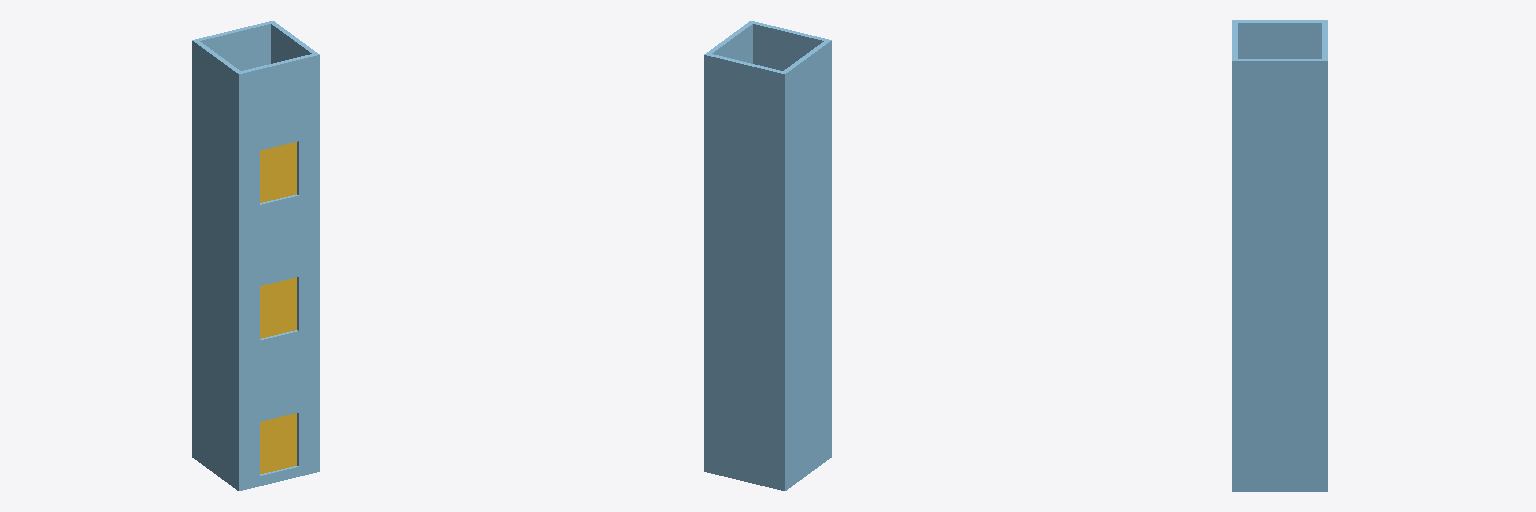
robot.urdf — elevator:
<?xml version="1.0"?>
<robot name="elevator">



    <gazebo>
        <gravity>0</gravity>
        <plugin name="gazebo_ros_control" filename="libgazebo_ros_control.so">
		<robotSimType>gazebo_ros_control/DefaultRobotHWSim</robotSimType>
        </plugin>
    </gazebo>

    <gazebo reference="world">
    <gravity>0</gravity>
        <static>true</static>
    </gazebo>
    
    <gazebo reference="shaft">
        <collision>
            <max_contact>0</max_contact>
        </collision>
    	<static>true</static>
    </gazebo>    

    <gazebo reference="car">
        <gravity>0</gravity>
    </gazebo>    

    <gazebo reference="car_door_left">
        <gravity>0</gravity>
    </gazebo>    

    <gazebo reference="car_door_right">
        <gravity>0</gravity>
    </gazebo>    

	<gazebo>
		<plugin name="joint_state_publisher" filename="libgazebo_ros_joint_state_publisher.so">
			<jointName>floor</jointName>
            <jointName>car_door_left_joint</jointName>
            <jointName>car_door_right_joint</jointName>
            <jointName>lobby_door_left_joint</jointName>
            <jointName>lobby_door_right_joint</jointName>
            <jointName>first_door_left_joint</jointName>
            <jointName>first_door_right_joint</jointName>
            <jointName>second_door_left_joint</jointName>
            <jointName>second_door_right_joint</jointName>
		</plugin>
	</gazebo>

    <link name="world"/>

    <link name="shaft">
 	    <inertial>
            <origin rpy="0 0 0" xyz="0 0 0"/>
            <mass value="2000" />
            <inertia ixx="1.0" ixy="0.0" ixz="0.0" iyy="1.0" iyz="0.0" izz="1.0"/>
        </inertial>
        <collision name="collision">
            <origin rpy="0.0 0 0" xyz="0 0 0"/>
            <geometry>
                <mesh filename="package://elevator_control/models/elevator/shaft.dae" />
            </geometry>
        </collision>        
        <visual name="visual">
            <origin rpy="0.0 0 0" xyz="0 0 0"/>
            <geometry>
                <mesh filename="package://elevator_control/models/elevator/shaft.dae" />
            </geometry>
        </visual>
        <surface>
            <friction>
                <ode>
                  <mu>0</mu>
                    <mu2>0</mu2>
                </ode>
            </friction>
        </surface>        
	</link>

    <joint name="world_shaft" type="fixed">
        <origin xyz="0 0 0.0" rpy="0.0 0.0 0.0"/>
        <parent link="world" />
        <child link="shaft" />
    </joint>

    <link name="car">
 	    <inertial>
            <origin rpy="0 0 0" xyz="0 0 0"/>
            <mass value="100" />
            <inertia ixx="1.0" ixy="0.0" ixz="0.0" iyy="1.0" iyz="0.0" izz="1.0"/>
        </inertial>
        <collision>
            <origin rpy="0.0 0 0" xyz="0 0 0"/>
            <geometry>
                <mesh filename="package://elevator_control/models/elevator/car.dae" />
            </geometry>
        </collision>
        <visual>
            <origin rpy="0.0 0 0" xyz="0 0 0"/>
            <geometry>
                <mesh filename="package://elevator_control/models/elevator/car.dae" />
            </geometry>
        </visual>
	</link>

    <joint name="floor" type="prismatic">
        <origin xyz="0 0 0" rpy="0.0 0.0 0.0"/>
        <parent link="shaft" />
        <child link="car" />
        <axis xyz="0 0 1" />
        <limit effort="10000" lower="0.0" upper="8.0" velocity="0.5" />
	    <dynamics damping="200" />
    </joint>    

    <transmission name="floor_tran">
		<type>transmission_interface/SimpleTransmission</type>
		<joint name="floor">
			<hardwareInterface>hardware_interface/EffortJointInterface</hardwareInterface>
		</joint>
		<actuator name="floor_motor">
			<hardwareInterface>hardware_interface/EffortJointInterface</hardwareInterface>
			<mechanicalReduction>1</mechanicalReduction>
		</actuator>
	</transmission>    

<!-- Car Doors -->

    <link name="car_door_left">
 	    <inertial>
            <origin rpy="0 0 0" xyz="0 0 0"/>
            <mass value="100" />
            <inertia ixx="1.0" ixy="0.0" ixz="0.0" iyy="1.0" iyz="0.0" izz="1.0"/>
        </inertial>
        <collision>
            <origin rpy="0.0 0 0" xyz="0 0 0"/>
            <geometry>
                <mesh filename="package://elevator_control/models/elevator/car_door_left.dae" />
            </geometry>
        </collision>
        <visual>
            <origin rpy="0.0 0 0" xyz="0 0 0"/>
            <geometry>
                <mesh filename="package://elevator_control/models/elevator/car_door_left.dae" />
            </geometry>
        </visual>
	</link>

    <joint name="car_door_left_joint" type="prismatic">
        <origin xyz="0 0 0" rpy="0.0 0.0 0.0"/>
        <parent link="car" />
        <child link="car_door_left" />
        <axis xyz="1 0 0" />
        <limit effort="100" lower="-0.5" upper="0.0" velocity="0.1" />
	<dynamics damping="100.0" />
    </joint>
link
    <transmission name="car_door_left_tran">
		<type>transmission_interface/SimpleTransmission</type>
		<joint name="car_door_left_joint">
			<hardwareInterface>hardware_interface/EffortJointInterface</hardwareInterface>
		</joint>
		<actuator name="car_door_left_motor">
			<hardwareInterface>hardware_interface/EffortJointInterface</hardwareInterface>
			<mechanicalReduction>1</mechanicalReduction>
		</actuator>
	</transmission>


    <link name="car_door_right">
 	    <inertial>
            <origin rpy="0 0 0" xyz="0 0 0"/>
            <mass value="100" />
            <inertia ixx="1.0" ixy="0.0" ixz="0.0" iyy="1.0" iyz="0.0" izz="1.0"/>
        </inertial>
        <collision>
            <origin rpy="0.0 0 0" xyz="0 0 0"/>
            <geometry>
                <mesh filename="package://elevator_control/models/elevator/car_door_right.dae" />
            </geometry>
        </collision>
        <visual>
            <origin rpy="0.0 0 0" xyz="0 0 0"/>
            <geometry>
                <mesh filename="package://elevator_control/models/elevator/car_door_right.dae" />
            </geometry>
        </visual>
	</link>

    <joint name="car_door_right_joint" type="prismatic">
        <origin xyz="0 0 0" rpy="0.0 0.0 0.0"/>
        <parent link="car" />
        <child link="car_door_right" />
        <axis xyz="1 0 0" />
        <limit effort="100" lower="0.0" upper="0.5" velocity="0.1" />
	<dynamics damping="100.0" />
    </joint>     

    <transmission name="car_door_right_tran">
		<type>transmission_interface/SimpleTransmission</type>
		<joint name="car_door_right_joint">
			<hardwareInterface>hardware_interface/EffortJointInterface</hardwareInterface>
		</joint>
		<actuator name="car_door_right_motor">
			<hardwareInterface>hardware_interface/EffortJointInterface</hardwareInterface>
			<mechanicalReduction>1</mechanicalReduction>
		</actuator>
	</transmission>

<!-- Lobby Doors -->


    <link name="lobby_door_left">
 	    <inertial>
            <origin rpy="0 0 0" xyz="0 0 0"/>
            <mass value="100" />
            <inertia ixx="1.0" ixy="0.0" ixz="0.0" iyy="1.0" iyz="0.0" izz="1.0"/>
        </inertial>
        <collision>
            <origin rpy="0.0 0 0" xyz="0 0 0"/>
            <geometry>
                <mesh filename="package://elevator_control/models/elevator/lobby_door_left.dae" />
            </geometry>
        </collision>
        <visual>
            <origin rpy="0.0 0 0" xyz="0 0 0"/>
            <geometry>
                <mesh filename="package://elevator_control/models/elevator/lobby_door_left.dae" />
            </geometry>
        </visual>
	</link>

    <joint name="lobby_door_left_joint" type="prismatic">
        <origin xyz="0 0 0" rpy="0.0 0.0 0.0"/>
        <parent link="shaft" />
        <child link="lobby_door_left" />
        <axis xyz="1 0 0" />
        <limit effort="100" lower="-0.5" upper="0.0" velocity="0.1" />
	<dynamics damping="100.0" />
    </joint>


    <transmission name="lobby_door_left_tran">
		<type>transmission_interface/SimpleTransmission</type>
		<joint name="lobby_door_left_joint">
			<hardwareInterface>hardware_interface/EffortJointInterface</hardwareInterface>
		</joint>
		<actuator name="lobby_door_left_motor">
			<hardwareInterface>hardware_interface/EffortJointInterface</hardwareInterface>
			<mechanicalReduction>1</mechanicalReduction>
		</actuator>
	</transmission>

    <link name="lobby_door_right">
 	    <inertial>
            <origin rpy="0 0 0" xyz="0 0 0"/>
            <mass value="100" />
            <inertia ixx="1.0" ixy="0.0" ixz="0.0" iyy="1.0" iyz="0.0" izz="1.0"/>
        </inertial>
        <collision>
            <origin rpy="0.0 0 0" xyz="0 0 0"/>
            <geometry>
                <mesh filename="package://elevator_control/models/elevator/lobby_door_right.dae" />
            </geometry>
        </collision>
        <visual>
            <origin rpy="0.0 0 0" xyz="0 0 0"/>
            <geometry>
                <mesh filename="package://elevator_control/models/elevator/lobby_door_right.dae" />
            </geometry>
        </visual>
	</link>

    <joint name="lobby_door_right_joint" type="prismatic">
        <origin xyz="0 0 0" rpy="0.0 0.0 0.0"/>
        <parent link="shaft" />
        <child link="lobby_door_right" />
        <axis xyz="1 0 0" />
        <limit effort="100" lower="0.0" upper="0.5" velocity="0.1" />
	<dynamics damping="100.0" />
    </joint> 

    <transmission name="lobby_door_right_tran">
		<type>transmission_interface/SimpleTransmission</type>
		<joint name="lobby_door_right_joint">
			<hardwareInterface>hardware_interface/EffortJointInterface</hardwareInterface>
		</joint>
		<actuator name="lobby_door_right_motor">
			<hardwareInterface>hardware_interface/EffortJointInterface</hardwareInterface>
			<mechanicalReduction>1</mechanicalReduction>
		</actuator>
	</transmission>

<!-- First Floor Doors -->
    <link name="first_door_left">
 	    <inertial>
            <origin rpy="0 0 0" xyz="0 0 0"/>
            <mass value="100" />
            <inertia ixx="1.0" ixy="0.0" ixz="0.0" iyy="1.0" iyz="0.0" izz="1.0"/>
        </inertial>
        <collision>
            <origin rpy="0.0 0 0" xyz="0 0 0"/>
            <geometry>
                <mesh filename="package://elevator_control/models/elevator/first_door_left.dae" />
            </geometry>
        </collision>
        <visual>
            <origin rpy="0.0 0 0" xyz="0 0 0"/>
            <geometry>
                <mesh filename="package://elevator_control/models/elevator/first_door_left.dae" />
            </geometry>
        </visual>
	</link>

    <joint name="first_door_left_joint" type="prismatic">
        <origin xyz="0 0 0" rpy="0.0 0.0 0.0"/>
        <parent link="shaft" />
        <child link="first_door_left" />
        <axis xyz="1 0 0" />
        <limit effort="100" lower="-0.5" upper="0.0" velocity="0.1" />
	<dynamics damping="100.0" />
    </joint>

    <transmission name="first_door_left_tran">
		<type>transmission_interface/SimpleTransmission</type>
		<joint name="first_door_left_joint">
			<hardwareInterface>hardware_interface/EffortJointInterface</hardwareInterface>
		</joint>
		<actuator name="first_door_left_motor">
			<hardwareInterface>hardware_interface/EffortJointInterface</hardwareInterface>
			<mechanicalReduction>1</mechanicalReduction>
		</actuator>
	</transmission>

    <link name="first_door_right">
 	    <inertial>
            <origin rpy="0 0 0" xyz="0 0 0"/>
            <mass value="100" />
            <inertia ixx="1.0" ixy="0.0" ixz="0.0" iyy="1.0" iyz="0.0" izz="1.0"/>
        </inertial>
        <collision>
            <origin rpy="0.0 0 0" xyz="0 0 0"/>
            <geometry>
                <mesh filename="package://elevator_control/models/elevator/first_door_right.dae" />
            </geometry>
        </collision>
        <visual>
            <origin rpy="0.0 0 0" xyz="0 0 0"/>
            <geometry>
                <mesh filename="package://elevator_control/models/elevator/first_door_right.dae" />
            </geometry>
        </visual>
	</link>

    <joint name="first_door_right_joint" type="prismatic">
        <origin xyz="0 0 0" rpy="0.0 0.0 0.0"/>
        <parent link="shaft" />
        <child link="first_door_right" />
        <axis xyz="1 0 0" />
        <limit effort="100" lower="0.0" upper="0.5" velocity="0.1" />
	<dynamics damping="100.0" />
    </joint> 

    <transmission name="first_door_right_tran">
		<type>transmission_interface/SimpleTransmission</type>
		<joint name="first_door_right_joint">
			<hardwareInterface>hardware_interface/EffortJointInterface</hardwareInterface>
		</joint>
		<actuator name="first_door_right_motor">
			<hardwareInterface>hardware_interface/EffortJointInterface</hardwareInterface>
			<mechanicalReduction>1</mechanicalReduction>
		</actuator>
	</transmission>

<!-- Second Floor Doors -->
    <link name="second_door_left">
 	    <inertial>
            <origin rpy="0 0 0" xyz="0 0 0"/>
            <mass value="100" />
            <inertia ixx="1.0" ixy="0.0" ixz="0.0" iyy="1.0" iyz="0.0" izz="1.0"/>
        </inertial>
        <collision>
            <origin rpy="0.0 0 0" xyz="0 0 0"/>
            <geometry>
                <mesh filename="package://elevator_control/models/elevator/second_door_left.dae" />
            </geometry>
        </collision>
        <visual>
            <origin rpy="0.0 0 0" xyz="0 0 0"/>
            <geometry>
                <mesh filename="package://elevator_control/models/elevator/second_door_left.dae" />
            </geometry>
        </visual>
	</link>

    <joint name="second_door_left_joint" type="prismatic">
        <origin xyz="0 0 0" rpy="0.0 0.0 0.0"/>
        <parent link="shaft" />
        <child link="second_door_left" />
        <axis xyz="1 0 0" />
        <limit effort="100" lower="-0.5" upper="0.0" velocity="0.1" />
	<dynamics damping="100.0" />
    </joint>

    <transmission name="second_door_left_tran">
		<type>transmission_interface/SimpleTransmission</type>
		<joint name="second_door_left_joint">
			<hardwareInterface>hardware_interface/EffortJointInterface</hardwareInterface>
		</joint>
		<actuator name="second_door_left_motor">
			<hardwareInterface>hardware_interface/EffortJointInterface</hardwareInterface>
			<mechanicalReduction>1</mechanicalReduction>
		</actuator>
	</transmission>    

    <link name="second_door_right">
 	    <inertial>
            <origin rpy="0 0 0" xyz="0 0 0"/>
            <mass value="100" />
            <inertia ixx="1.0" ixy="0.0" ixz="0.0" iyy="1.0" iyz="0.0" izz="1.0"/>
        </inertial>
        <collision>
            <origin rpy="0.0 0 0" xyz="0 0 0"/>
            <geometry>
                <mesh filename="package://elevator_control/models/elevator/second_door_right.dae" />
            </geometry>
        </collision>
        <visual>
            <origin rpy="0.0 0 0" xyz="0 0 0"/>
            <geometry>
                <mesh filename="package://elevator_control/models/elevator/second_door_right.dae" />
            </geometry>
        </visual>
	</link>

    <joint name="second_door_right_joint" type="prismatic">
        <origin xyz="0 0 0" rpy="0.0 0.0 0.0"/>
        <parent link="shaft" />
        <child link="second_door_right" />
        <axis xyz="1 0 0" />
        <limit effort="100" lower="0.0" upper="0.5" velocity="0.1" />
	<dynamics damping="100.0" />
    </joint> 

    <transmission name="second_door_right_tran">
		<type>transmission_interface/SimpleTransmission</type>
		<joint name="second_door_right_joint">
			<hardwareInterface>hardware_interface/EffortJointInterface</hardwareInterface>
		</joint>
		<actuator name="second_door_right_motor">
			<hardwareInterface>hardware_interface/EffortJointInterface</hardwareInterface>
			<mechanicalReduction>1</mechanicalReduction>
		</actuator>
	</transmission> 

<!-- Gazebo Materials-->

    <gazebo reference="shaft">
        <material>Gazebo/Grey</material>
    </gazebo>

    <gazebo reference="car">
        <gravity>0</gravity>
        <material>Gazebo/Grey</material>
    </gazebo>

    <gazebo reference="car_door_left">
        <material>Gazebo/Yellow</material>
    </gazebo>

    <gazebo reference="car_door_right">
        <material>Gazebo/Yellow</material>
    </gazebo>

    <gazebo reference="lobby_door_left">
        <material>Gazebo/Orange</material>
    </gazebo>

    <gazebo reference="lobby_door_right">
        <material>Gazebo/Orange</material>
    </gazebo>

    <gazebo reference="first_door_left">
        <material>Gazebo/Orange</material>
    </gazebo>

    <gazebo reference="first_door_right">
        <material>Gazebo/Orange</material>
    </gazebo>

    <gazebo reference="second_door_left">
        <material>Gazebo/Orange</material>
    </gazebo>

    <gazebo reference="second_door_right">
        <material>Gazebo/Orange</material>
    </gazebo>
</robot>

--- Render facts (derived) ---
3 views of the same robot in one strip: view 1: azimuth 30°, elevation 25°; view 2: azimuth 150°, elevation 25°; view 3: azimuth 270°, elevation 25° (orthographic).
Robot: elevator — 11 links, 10 joints (9 prismatic, 1 fixed); root link world; default pose: all joints at 0.
Visible links, largest first — view 1: shaft, lobby_door_right, second_door_right, first_door_right, first_door_left, lobby_door_left, second_door_left; view 2: shaft; view 3: shaft.
Boxes of the visible links, x1,y1,x2,y2 form: shaft: (192, 21, 319, 490); lobby_door_right: (278, 413, 296, 469); second_door_right: (278, 142, 296, 198); first_door_right: (278, 277, 296, 333); first_door_left: (260, 282, 277, 338); lobby_door_left: (260, 418, 277, 473); second_door_left: (260, 146, 277, 202); shaft: (704, 21, 831, 490); shaft: (1232, 20, 1327, 491).
Size in the robot's own frame: 2.5 by 2.5 by 12.3 metres.
Meshes: 10 distinct files referenced, 10 mesh visuals loaded (10 Collada DAE).